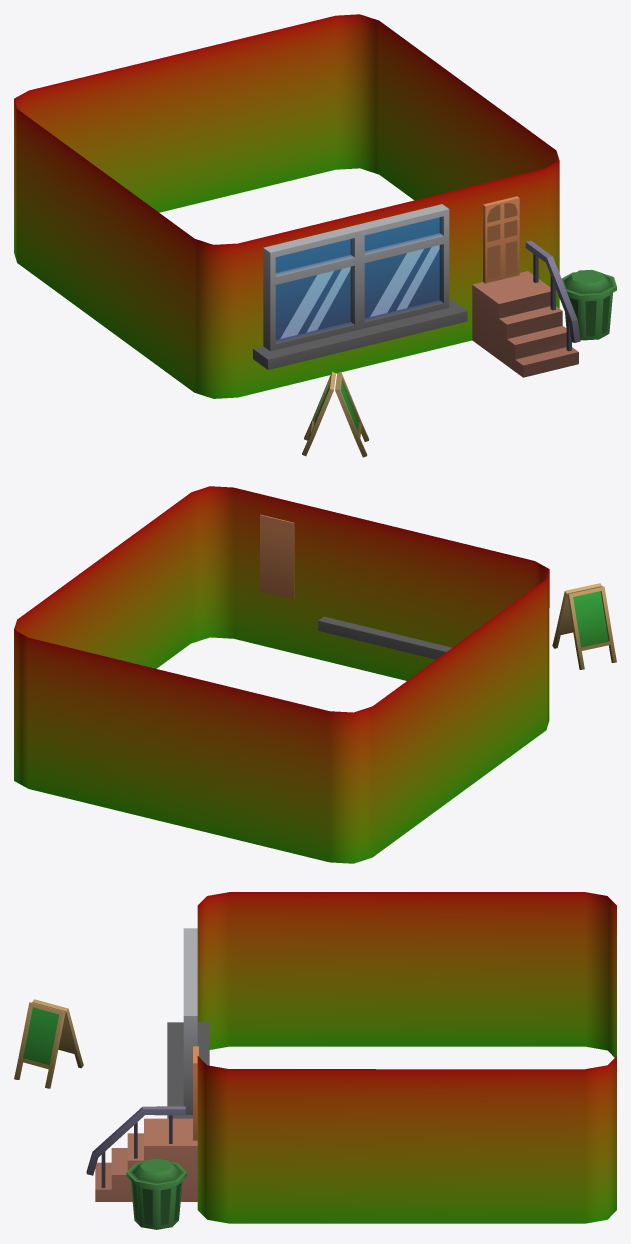
Rendered from House 1 Bottom.fbx.
3 views of the same model, one above another, from view 1: azimuth 30°, elevation 25°; view 2: azimuth 150°, elevation 25°; view 3: azimuth 270°, elevation 25° (orthographic). The views are drawn at different scales.
Visible parts, largest first — view 1: House1_Bottom; view 2: House1_Bottom; view 3: House1_Bottom.
Part boxes in pixels (left/top/right/bottom): House1_Bottom: left=14, top=14, right=616, bottom=457; House1_Bottom: left=14, top=486, right=616, bottom=863; House1_Bottom: left=14, top=892, right=616, bottom=1229.
Size of the model in its own units: 106 by 41.26 by 144.
